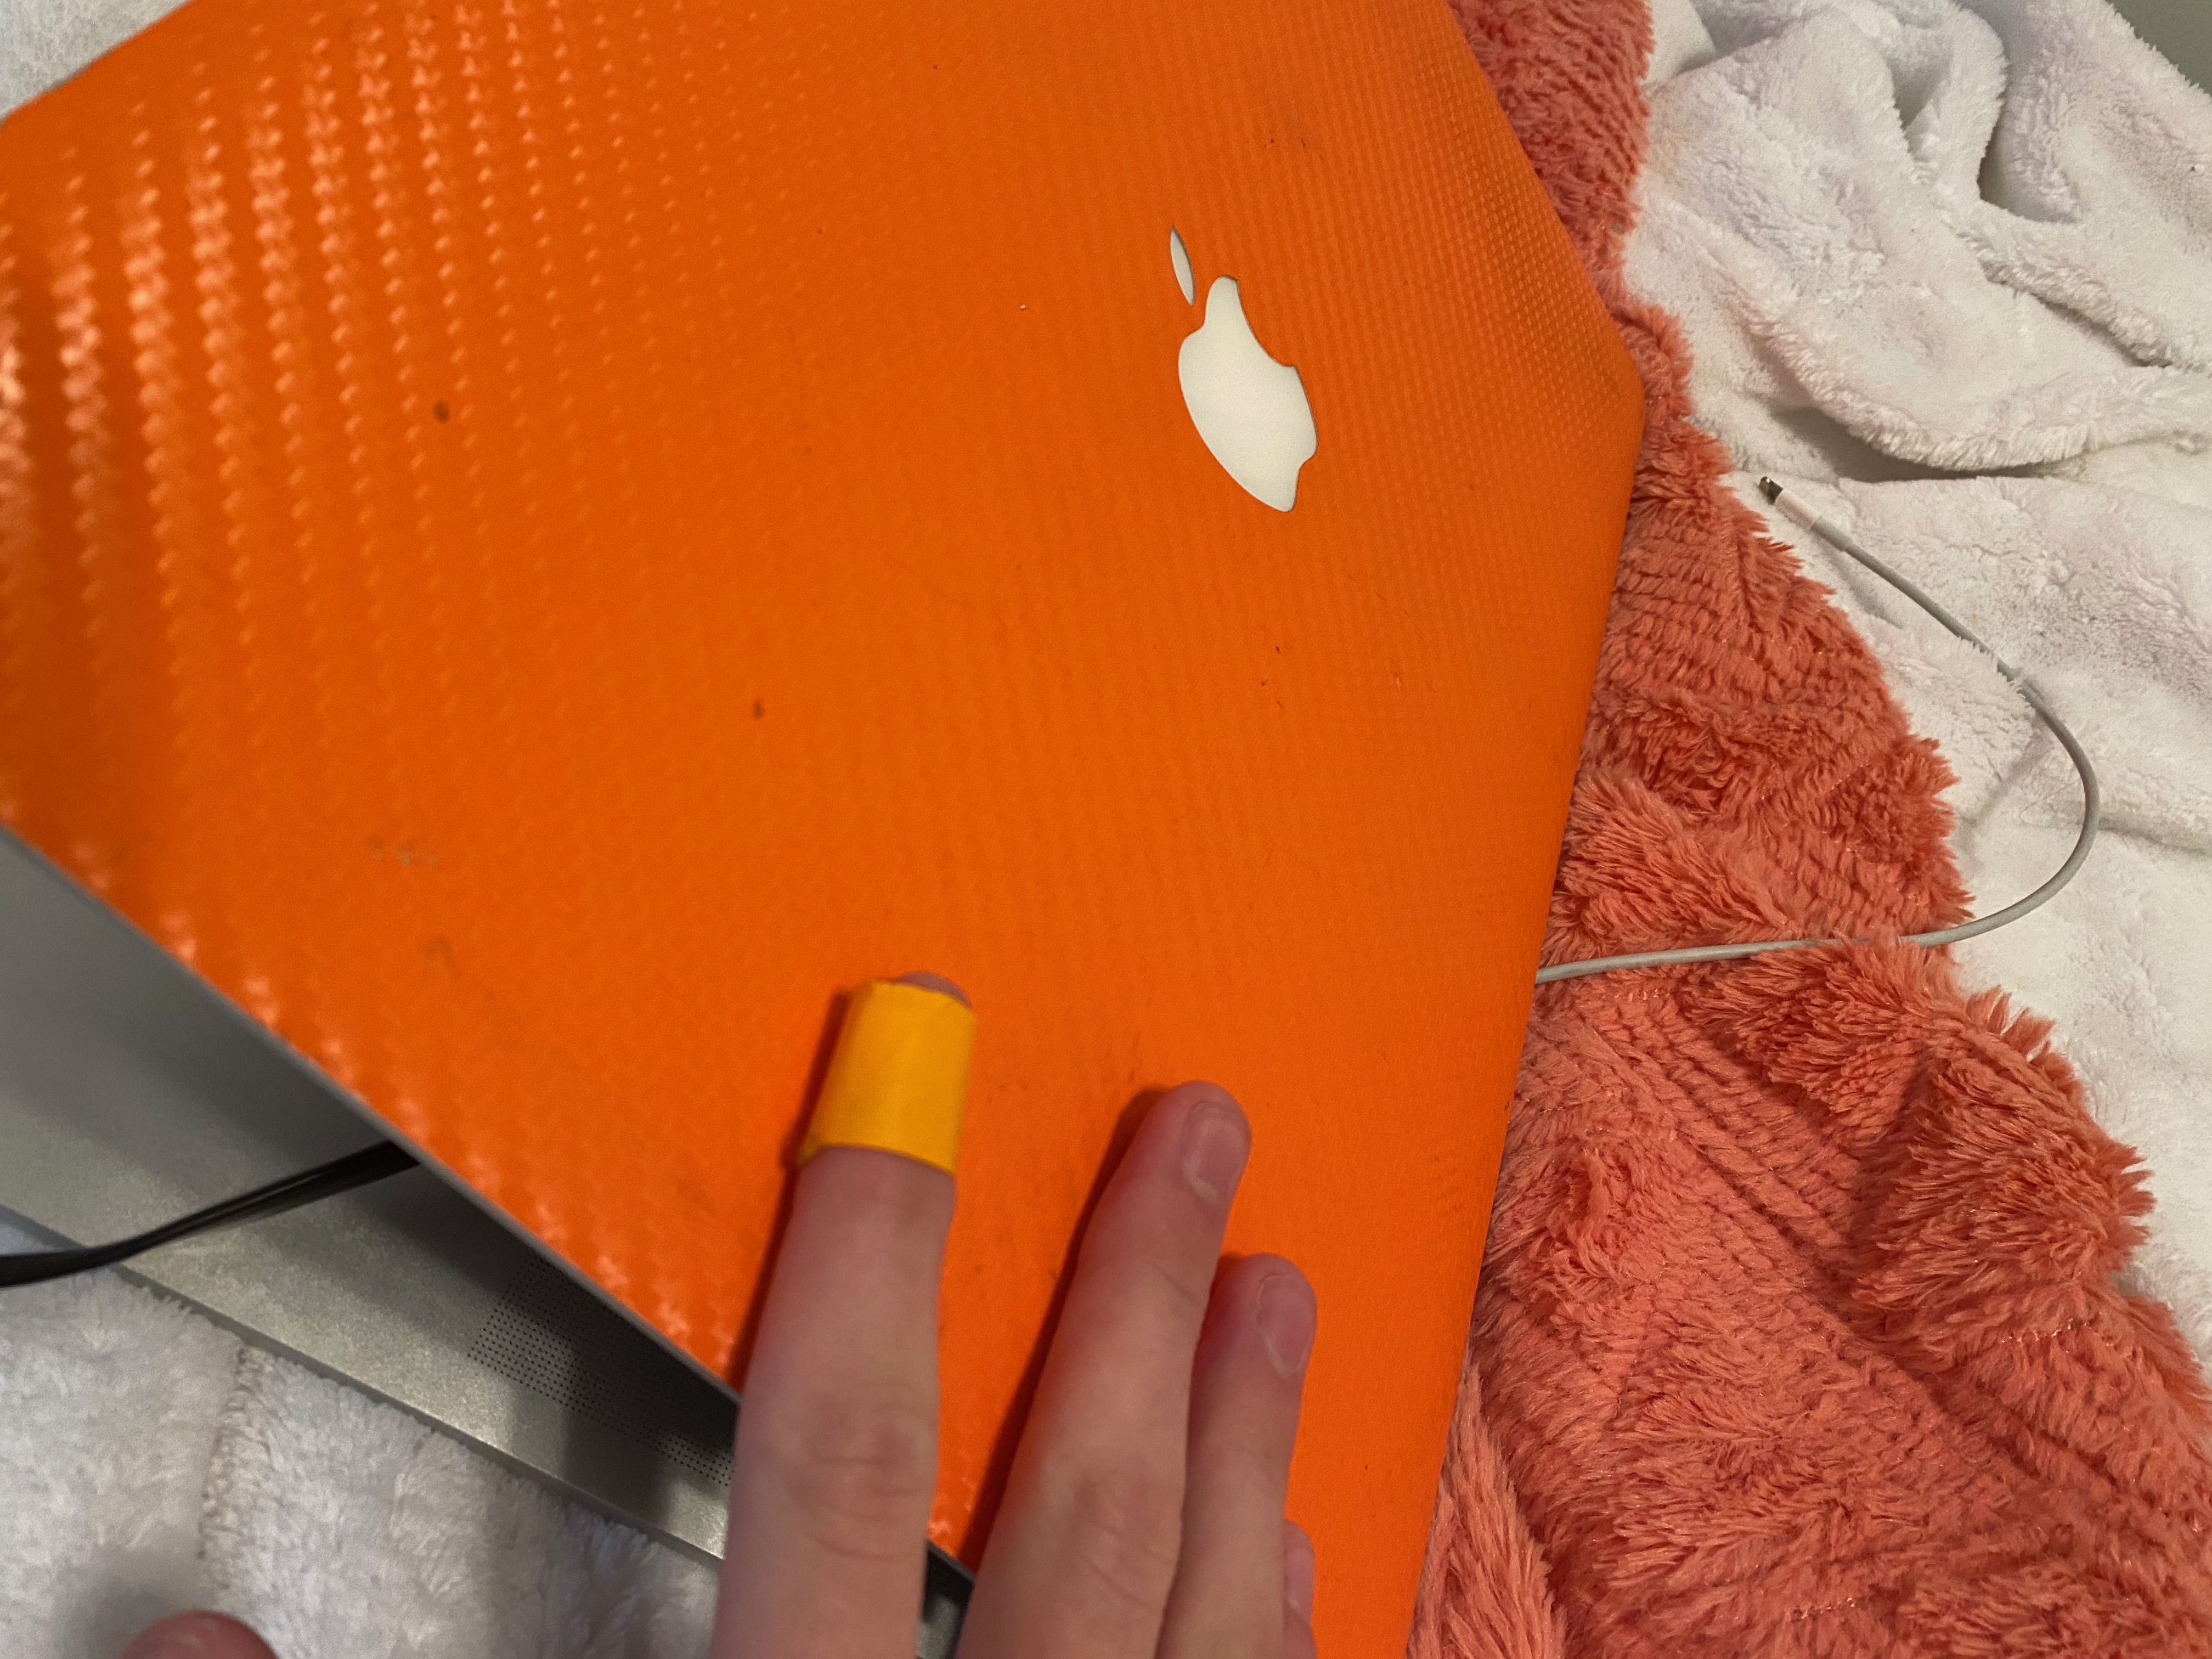fingertip: (779, 958, 1014, 1190)
